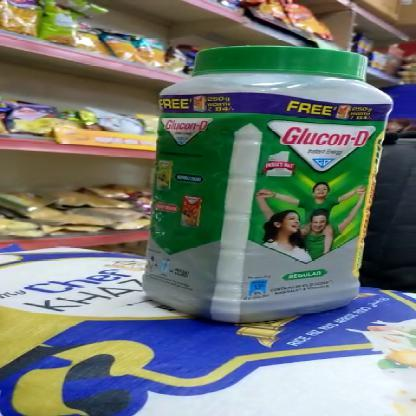Glucon D Regular 2-KG: (157, 44, 378, 310)
